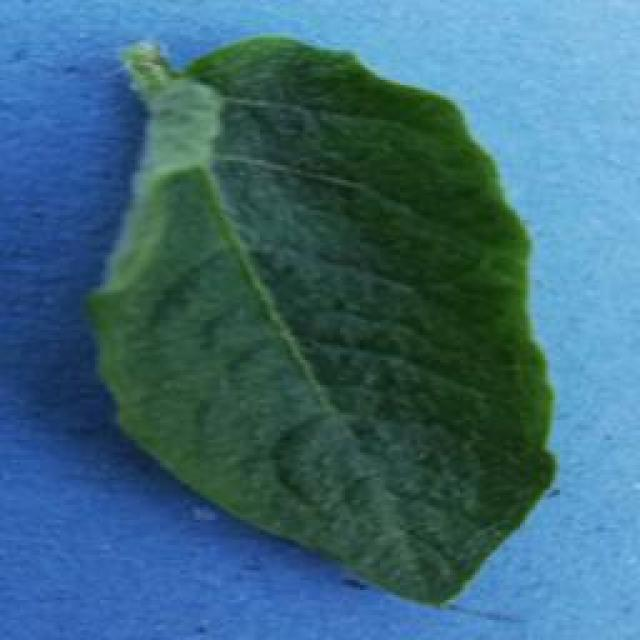Potato_Healthy: (88, 38, 557, 604)
